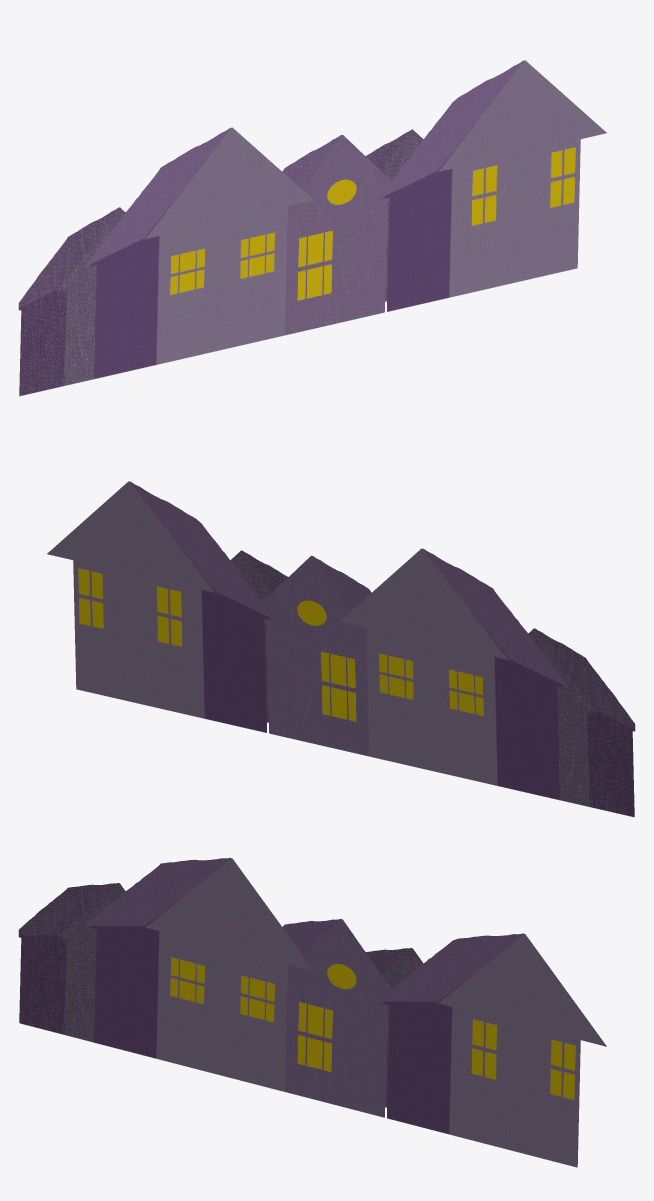
The model's file is houses_mesh.fbx.
3 renders of one model, top to bottom at view 1: azimuth 30°, elevation 25°; view 2: azimuth 150°, elevation 25°; view 3: azimuth 330°, elevation 25°, orthographic.
Parts seen in each view (by area): view 1: houses; view 2: houses; view 3: houses.
Boxes of the visible parts, x1,y1,x2,y2 form: houses: (18, 60, 606, 396); houses: (47, 481, 635, 817); houses: (18, 857, 606, 1167).
Bounding box in the file's own units: 944 × 389 × 1.52e-05.
